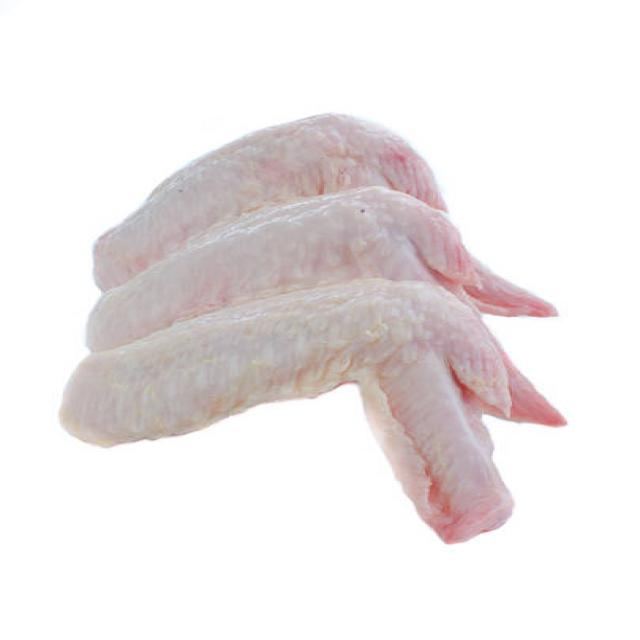Chicken: (65, 272, 508, 546), (81, 109, 558, 319)
